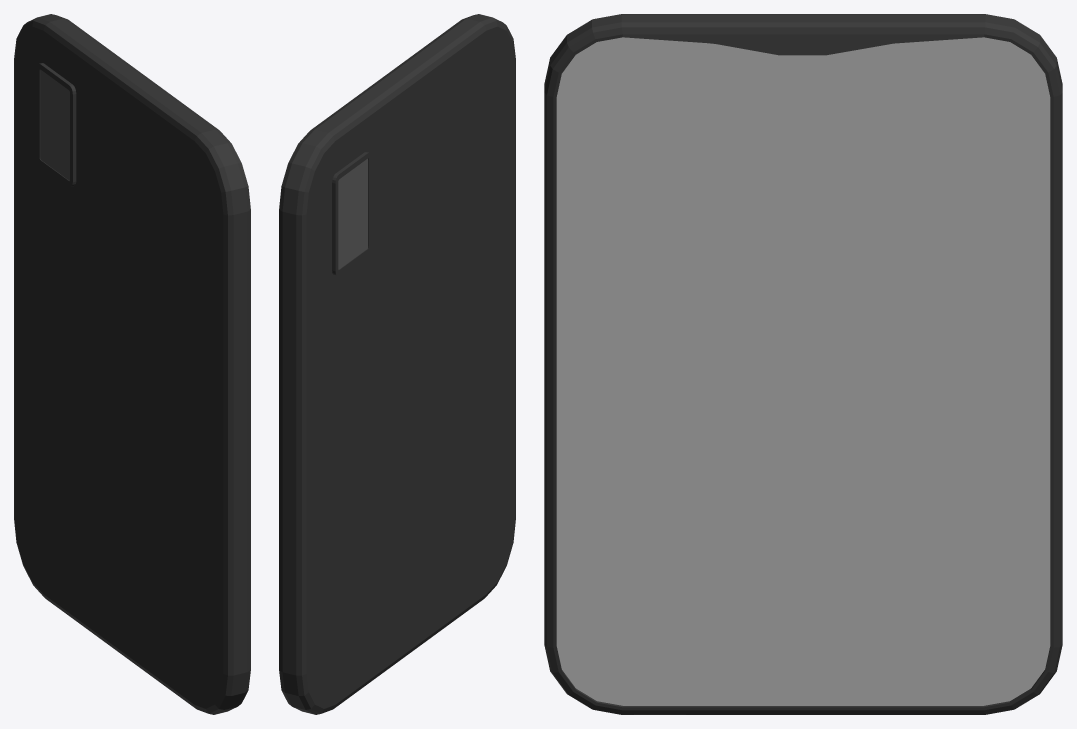
Rendered from tablet.fbx.
The picture shows the model from 3 angles, left to right: view 1: azimuth 30°, elevation 25°; view 2: azimuth 150°, elevation 25°; view 3: azimuth 270°, elevation 25°; orthographic projection. The views are drawn at different scales.
Parts seen in each view (by area): view 1: tablet; view 2: tablet; view 3: tablet.
Part boxes in pixels (x1=…): tablet: x1=14, y1=14, x2=250, y2=714; tablet: x1=279, y1=14, x2=515, y2=714; tablet: x1=544, y1=14, x2=1062, y2=714.
Bounding box in the file's own units: 19.51 × 295 × 200.
